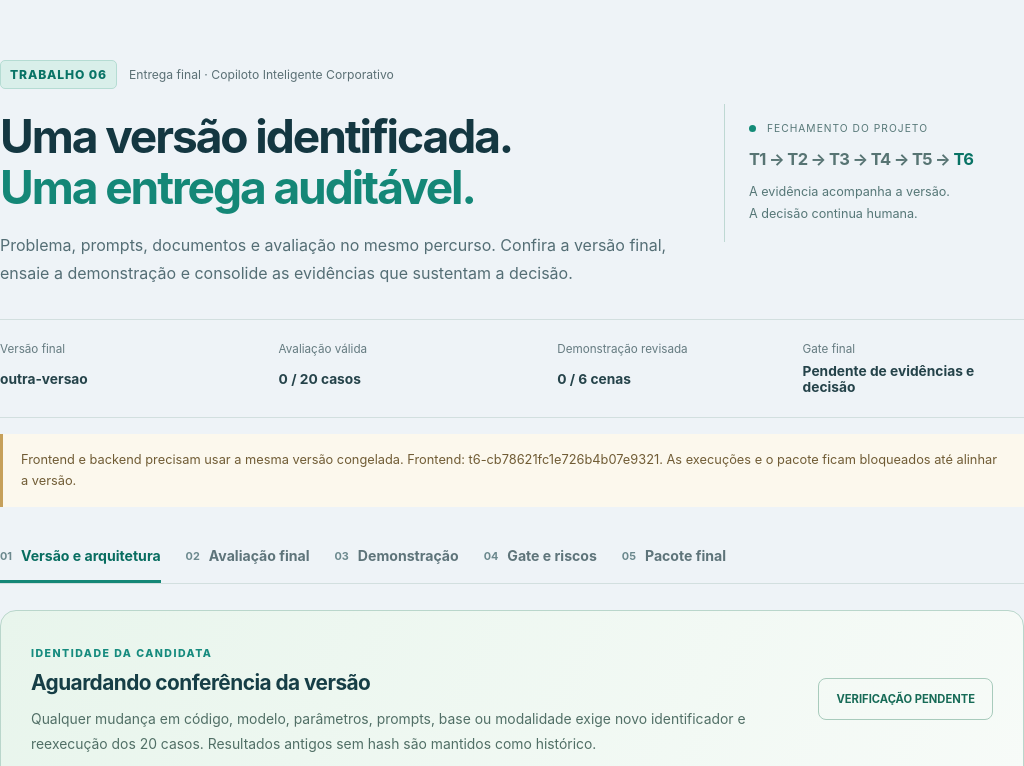
Test: Entrega final › bloqueia execução e pacote quando as versões divergem
Expected: the message shows "Frontend e backend precisam usar a mesma versão", [21,452,468,467]
Click the button "05 Pacote final" at (674, 557), box [622,531,726,583]
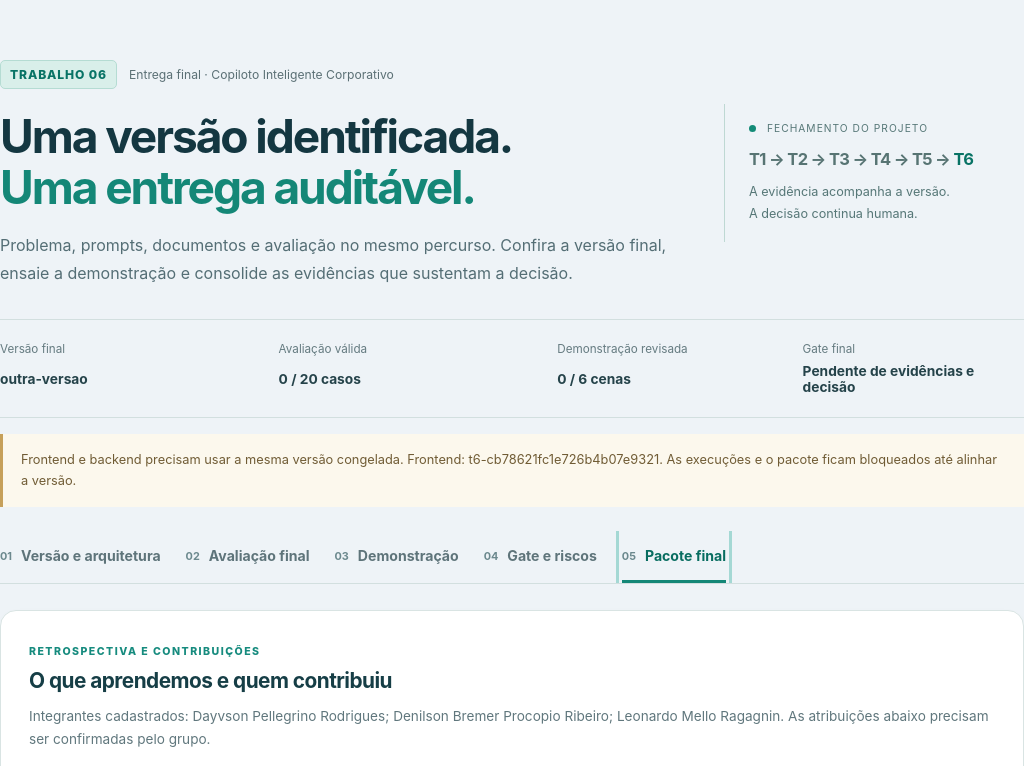
Click the button "02 Avaliação final" at (248, 557), box [186,531,310,583]
(page scrolled)
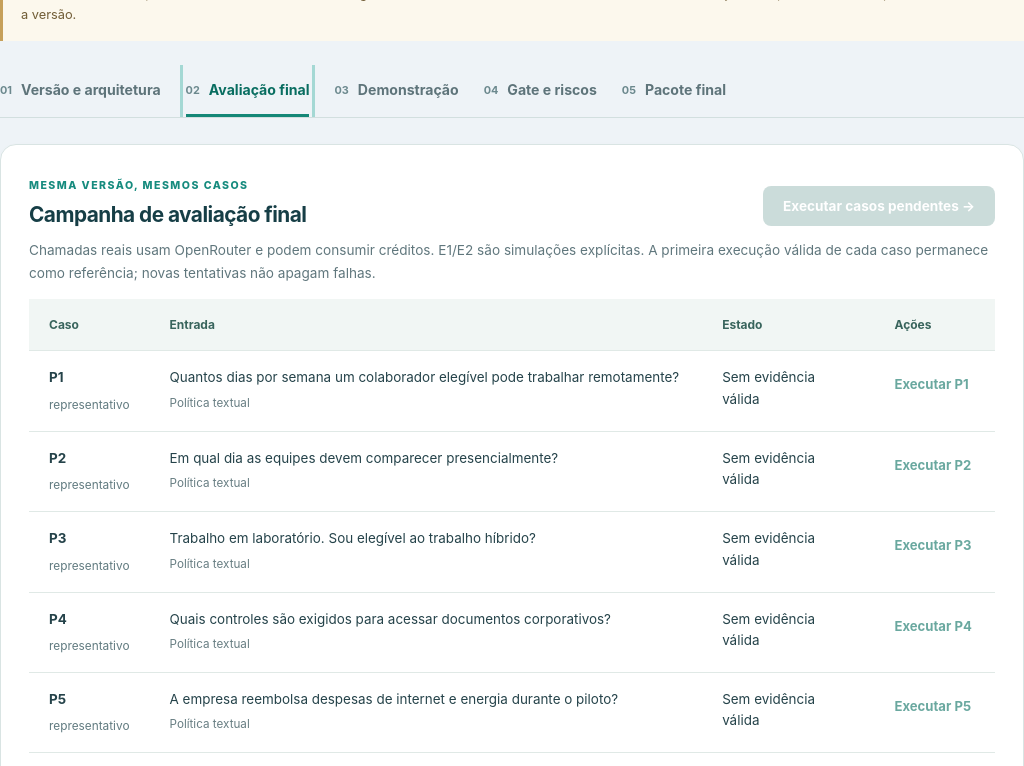
Now the button "Executar P1" is disabled, box [894,367,969,402]
